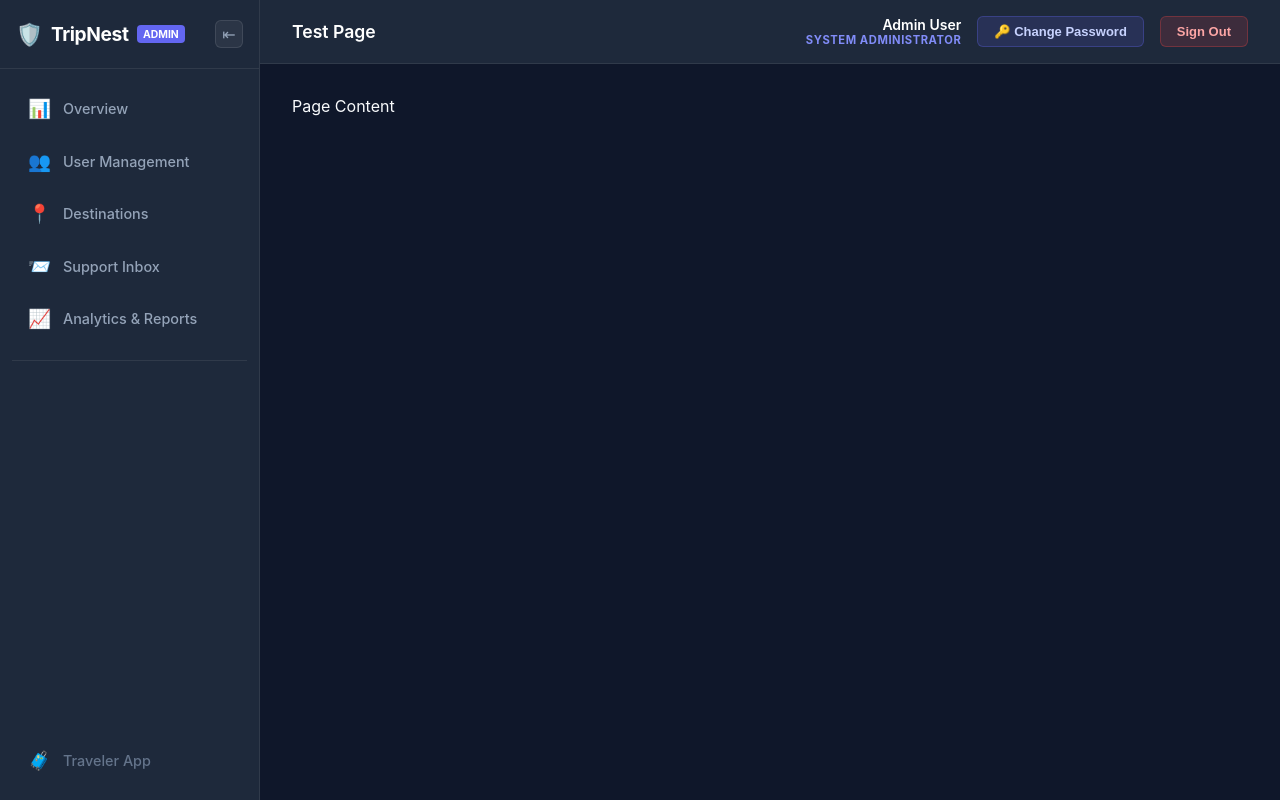
it: Feature 8: Admin User Deletion & Password Change › AdminLayout Self Password Change › opens password change modal and submits change request successfully
Click the button with aria-label "change admin password".
click(1061, 32)  # box x1=977 y1=16 x2=1144 y2=47
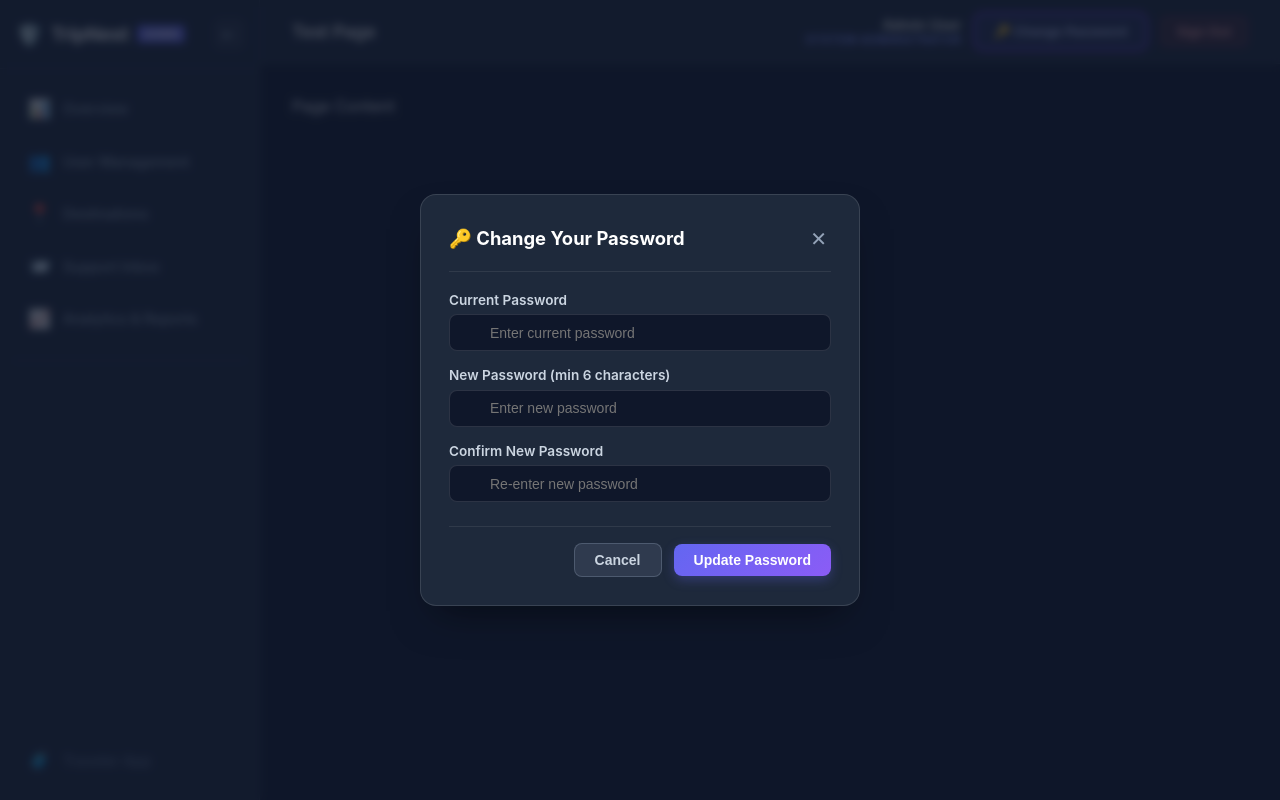
Result: the dialog "Change Your Password" is shown
# Fill in passwords
Type "oldAdminPwd123" into the password field labelled "Current Password".
click(640, 333); type("oldAdminPwd123")  # box x1=449 y1=314 x2=831 y2=351
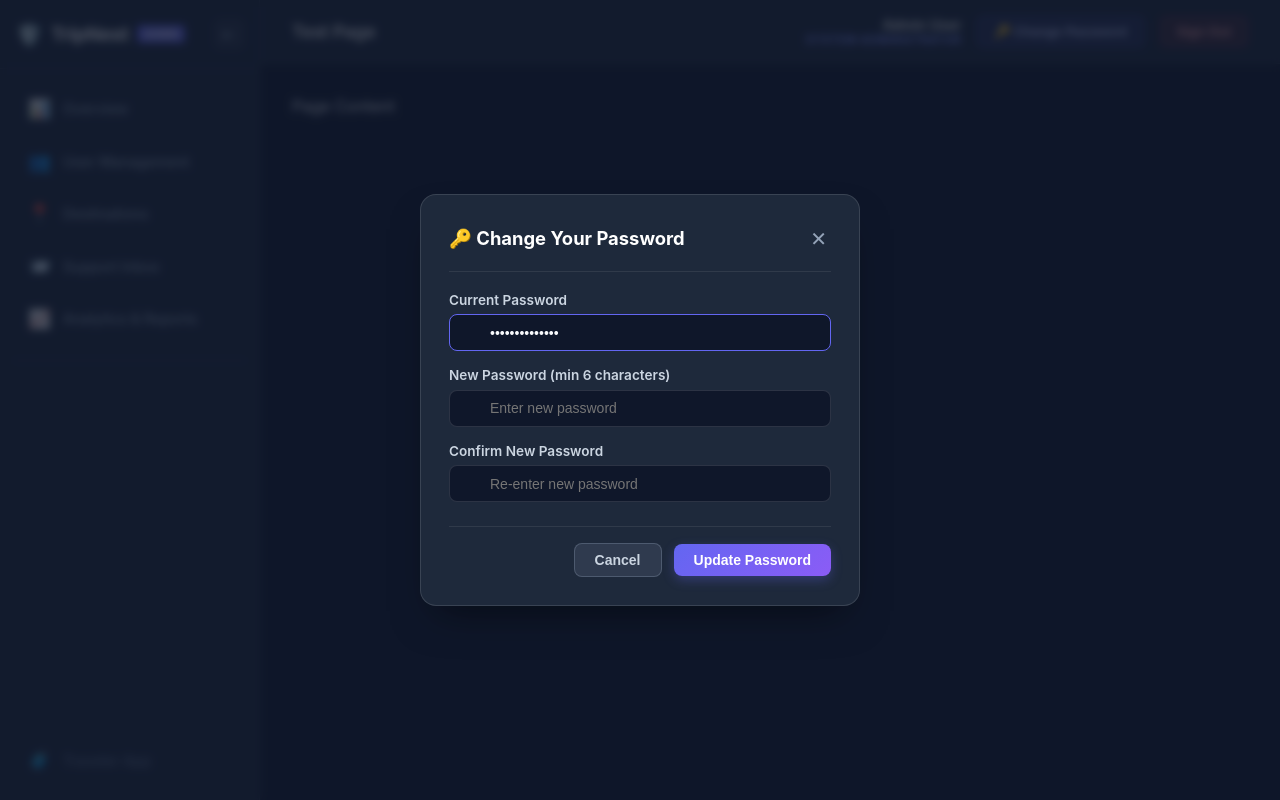
Type "newSecureAdminPwd456" into the password field labelled "New Password (min 6 characters)".
click(640, 408); type("newSecureAdminPwd456")  # box x1=449 y1=390 x2=831 y2=427
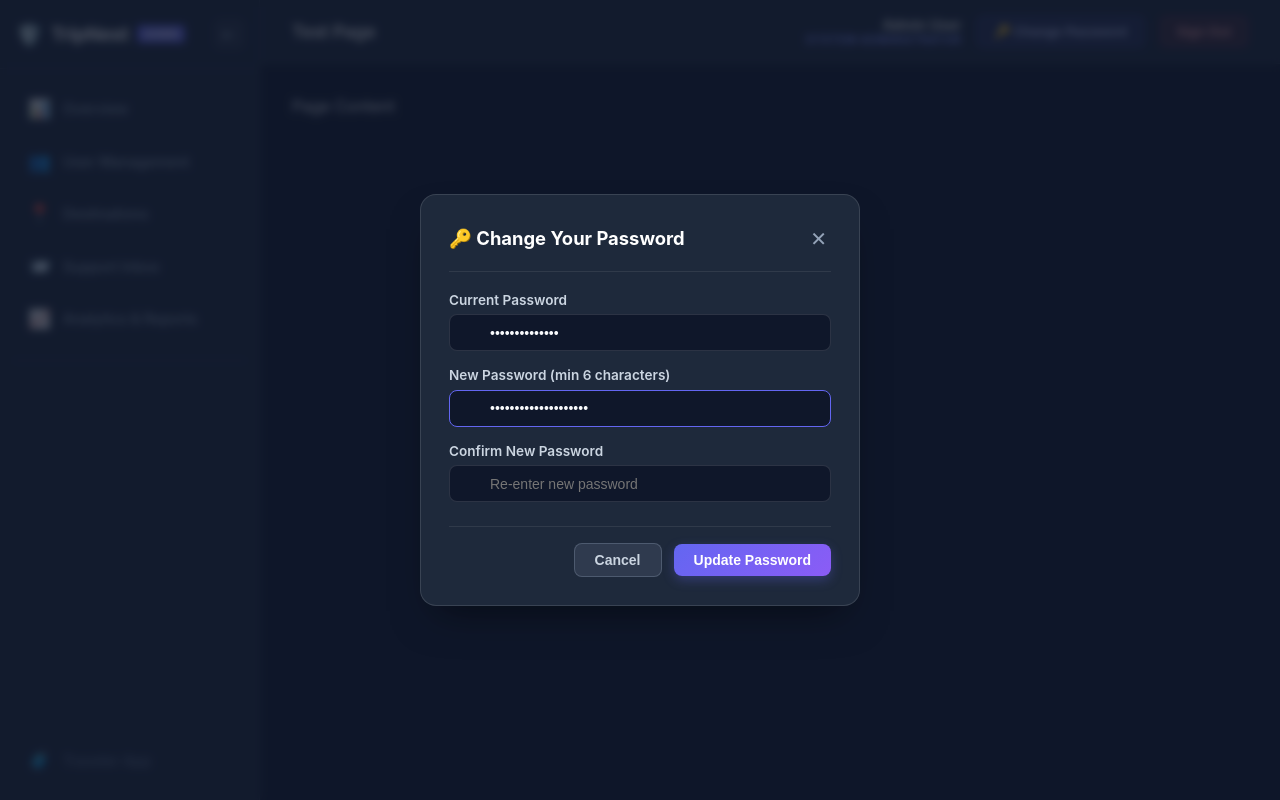
Type "newSecureAdminPwd456" into the password field labelled "Confirm New Password".
click(640, 484); type("newSecureAdminPwd456")  # box x1=449 y1=465 x2=831 y2=502
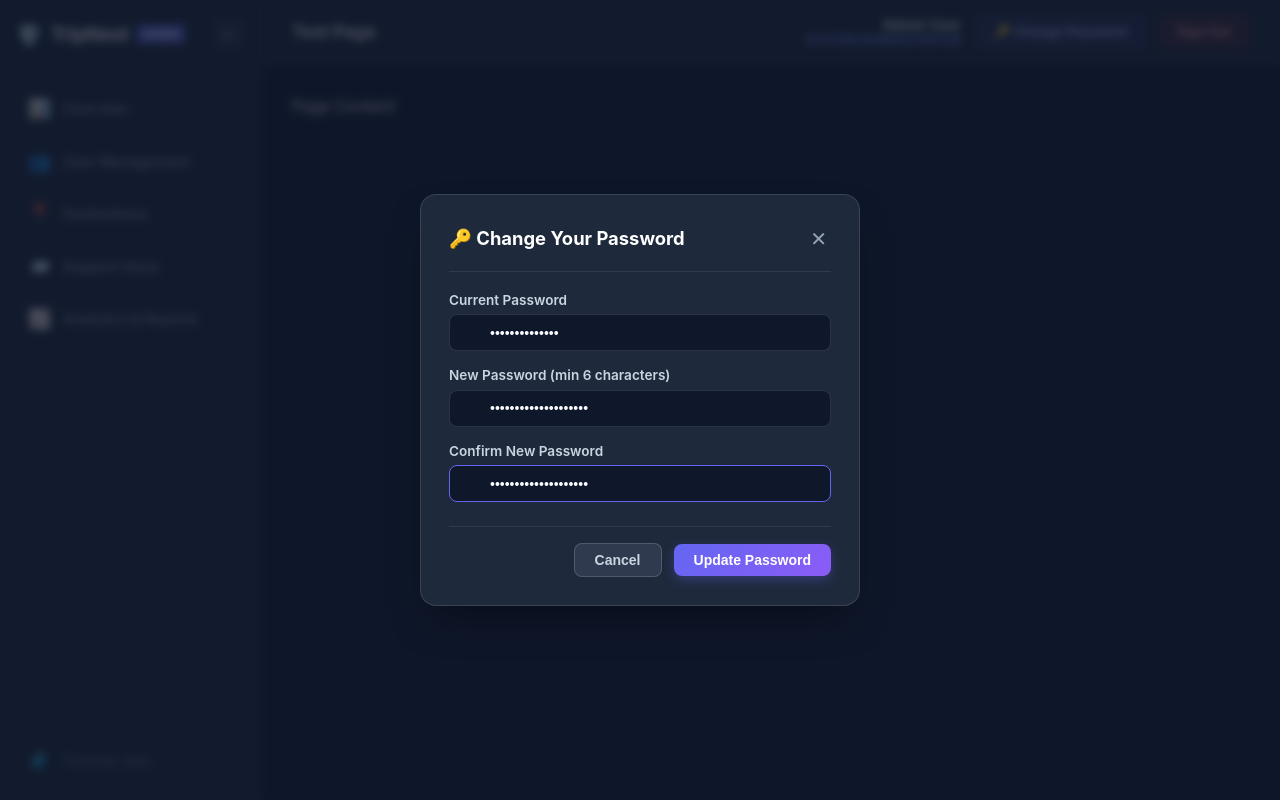
Click the button "Update Password".
click(752, 560)  # box x1=674 y1=544 x2=831 y2=576
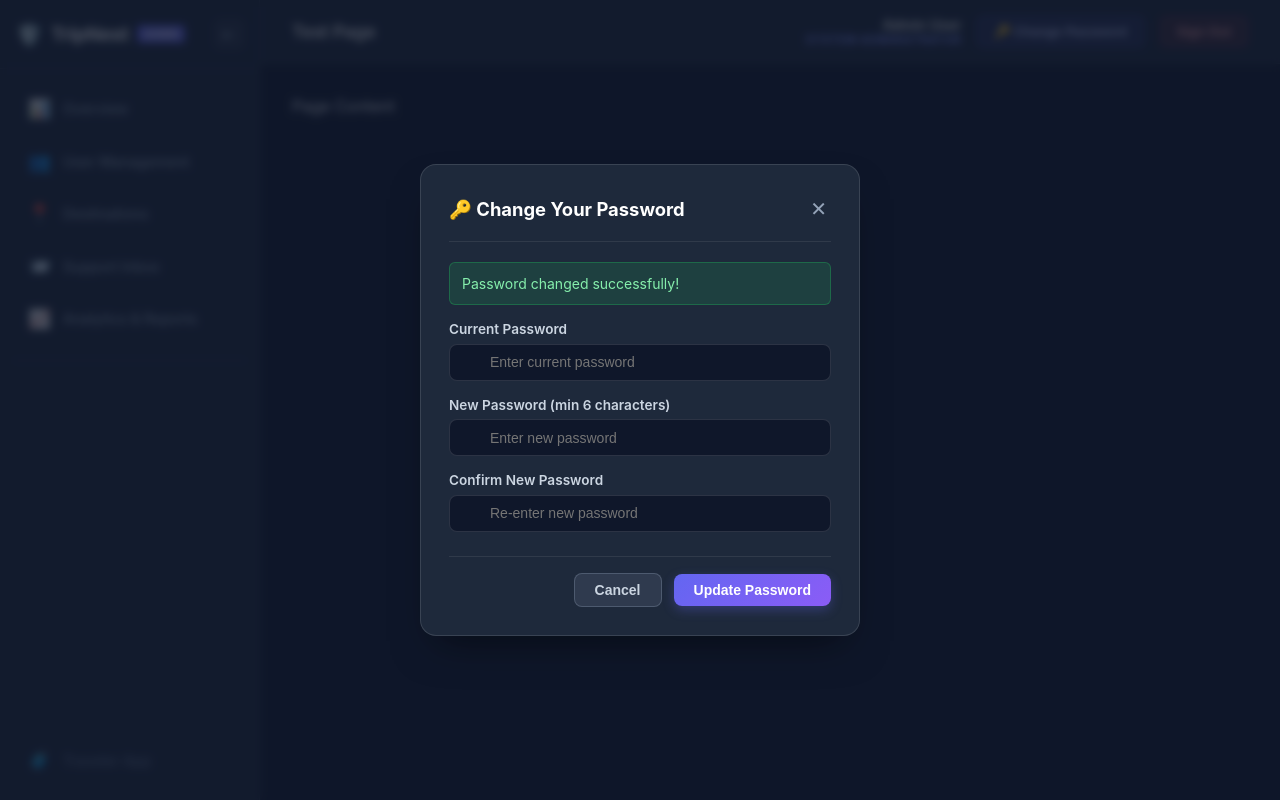
Result: the text "Password changed successfully!" is shown at x1=449 y1=262 x2=831 y2=305
